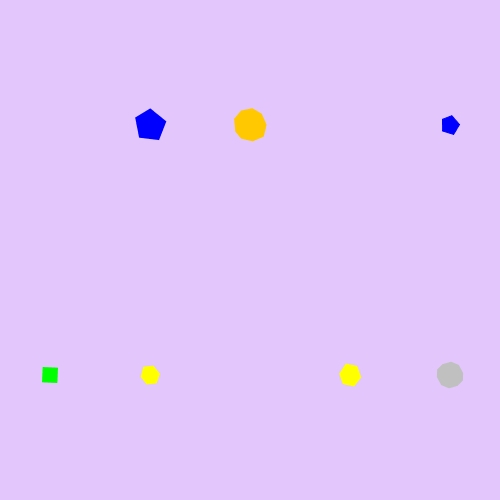decagon: (432, 359, 468, 392)
hexagon: (334, 361, 366, 389), (135, 362, 165, 388)
nonagon: (229, 105, 271, 145)
pentagon: (131, 106, 170, 145), (436, 111, 464, 139)
quadrilateral: (35, 360, 65, 390)
